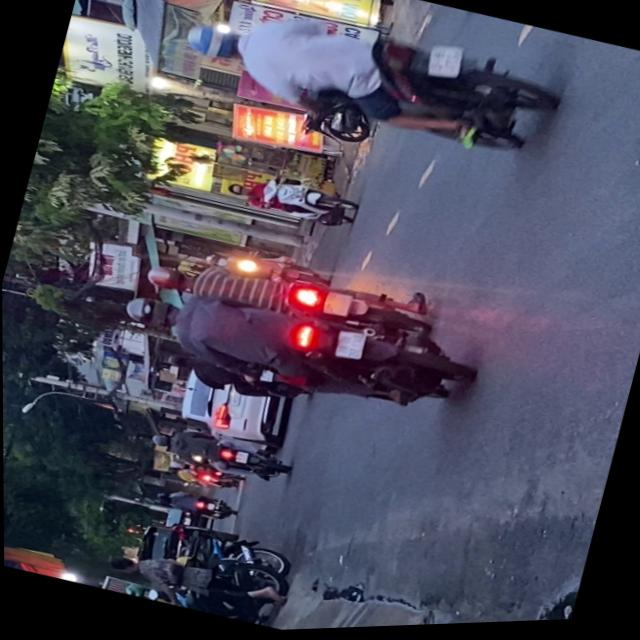helmet: (179, 16, 246, 68), (119, 290, 176, 334), (142, 260, 190, 295)
licenseplate: (169, 0, 568, 183), (110, 262, 478, 440), (138, 224, 436, 363)
nohelmet: (423, 45, 463, 85), (331, 330, 364, 363), (321, 292, 350, 320)
